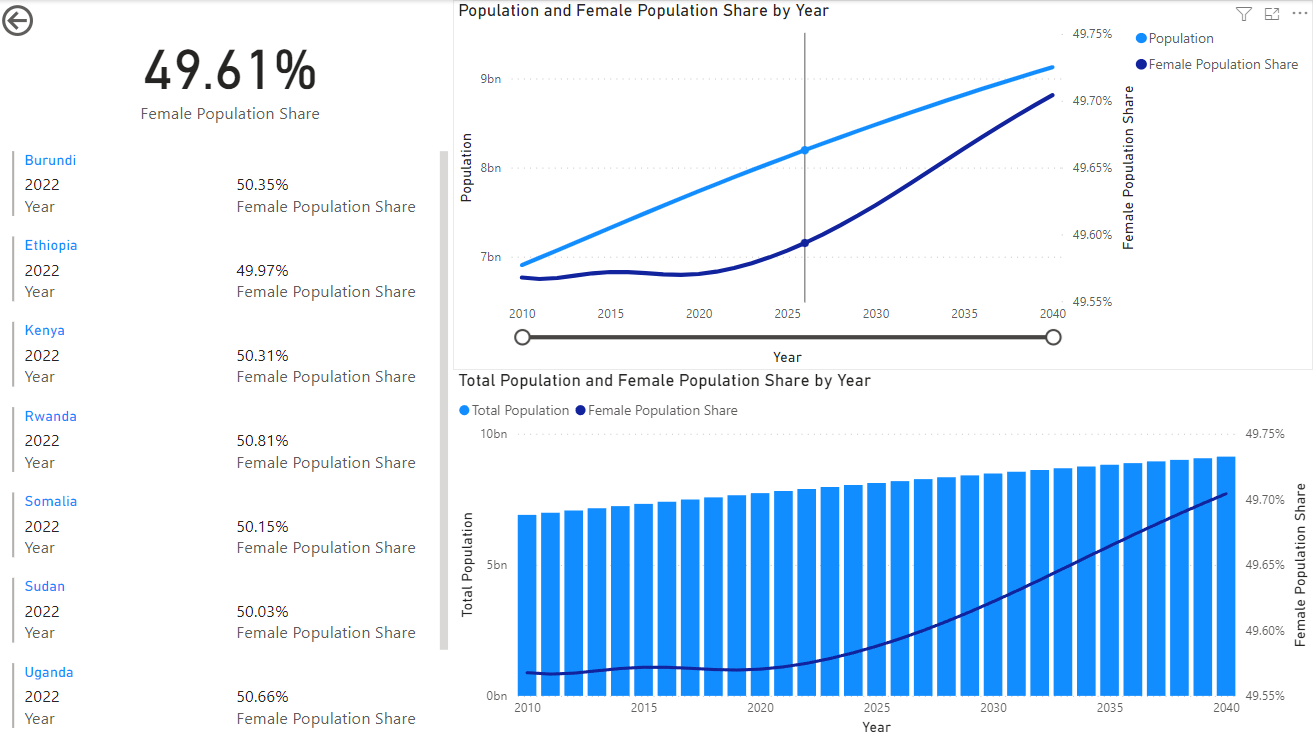

What the dashboard file says about the page in this screenshot:
{"tool":"powerbi","page":{"name":"Cards & More","canvas":[1280,720],"ordinal":4},"visuals":[{"type":"card","fields":{"Values":["FactPopulation.Female Population Share"]},"box":[9.7,0,433.8,142],"z":0},{"type":"multiRowCard","fields":{"Values":["FactPopulation.Year","FactPopulation.Female Population Share","DimRegion.Country"]},"box":[9.7,142,433.8,577.8],"z":1000},{"type":"actionButton","box":[0,0,100,40],"z":2000},{"type":"lineChart","fields":{"Category":["FactPopulation.Year"],"Y":["Sum(FactPopulation.Population)"],"Y2":["FactPopulation.Female Population Share"]},"box":[443.5,0,836.5,359.9],"z":3000},{"type":"lineClusteredColumnComboChart","fields":{"Category":["FactPopulation.Year"],"Y":["FactPopulation.Total Population"],"Y2":["FactPopulation.Female Population Share"]},"box":[444,360,836,360],"z":4000}]}

Visuals, with their boxes in screenshot pixels (x1, y1, x2, y2), scaled from the page's 1280x720 canvas onto the 1313x738 screenshot:
card - FactPopulation.Female Population Share: (left=10, top=0, right=455, bottom=146)
multiRowCard - FactPopulation.Year x FactPopulation.Female Population Share: (left=10, top=146, right=455, bottom=737)
actionButton: (left=0, top=0, right=103, bottom=41)
lineChart - FactPopulation.Year x Sum(FactPopulation.Population): (left=455, top=0, right=1312, bottom=369)
lineClusteredColumnComboChart - FactPopulation.Year x FactPopulation.Total Population: (left=455, top=369, right=1312, bottom=737)
